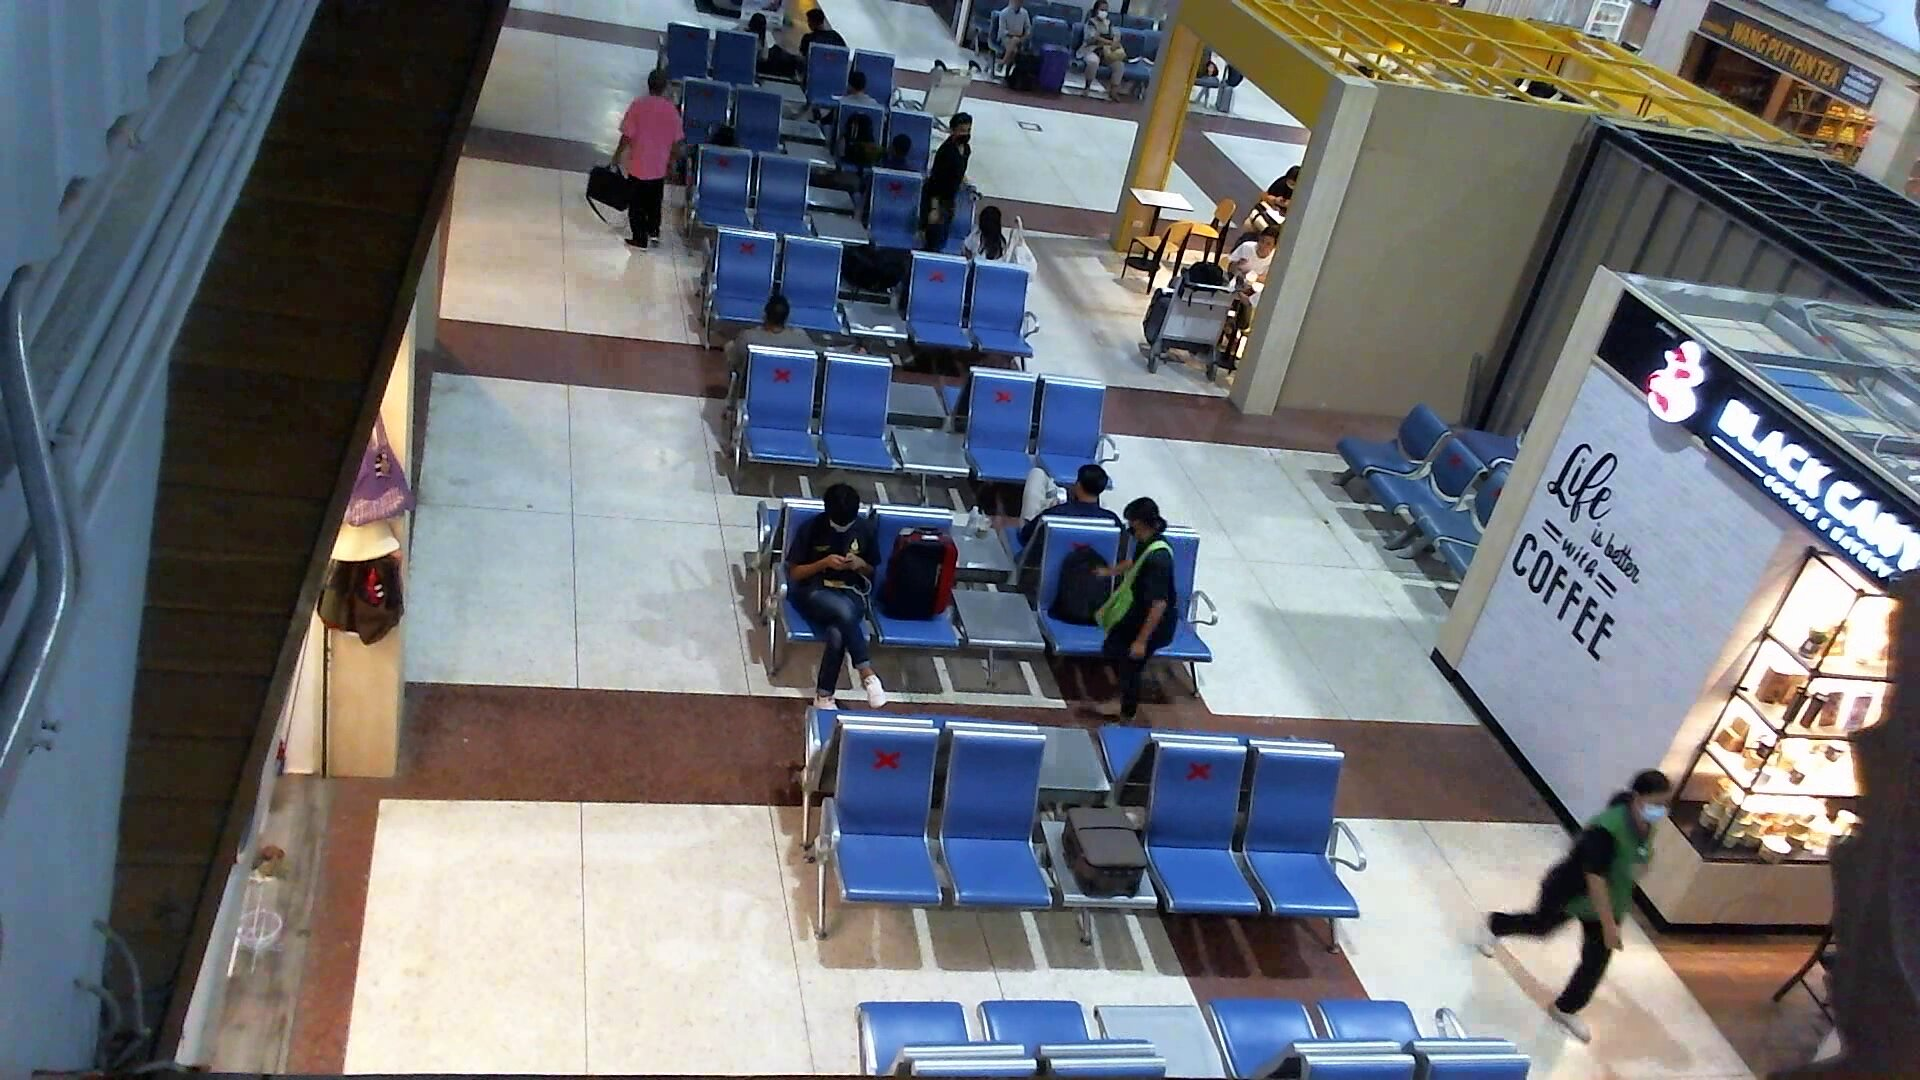backpack: (1050, 536, 1120, 632), (832, 237, 921, 301), (835, 110, 882, 176), (1002, 41, 1048, 100)
bag: (314, 532, 410, 645), (341, 405, 425, 535), (1092, 533, 1169, 631), (575, 156, 646, 237), (1010, 219, 1051, 291)
luggage: (1059, 803, 1152, 910), (880, 526, 962, 628), (1137, 285, 1196, 351), (1029, 36, 1070, 109)
people: (1471, 758, 1683, 1074), (775, 477, 898, 733), (1096, 494, 1189, 745), (598, 67, 701, 254), (719, 287, 826, 427), (1006, 453, 1124, 570), (917, 114, 984, 283), (1073, 1, 1133, 117), (816, 68, 889, 147), (1221, 228, 1289, 304), (988, 1, 1041, 86), (794, 4, 853, 72), (964, 208, 1015, 285), (1260, 154, 1317, 220)
